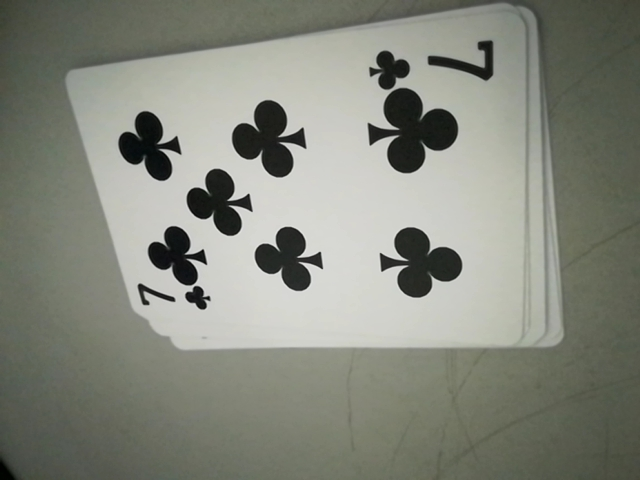mh 7: (366, 30, 503, 91), (127, 277, 209, 321)
